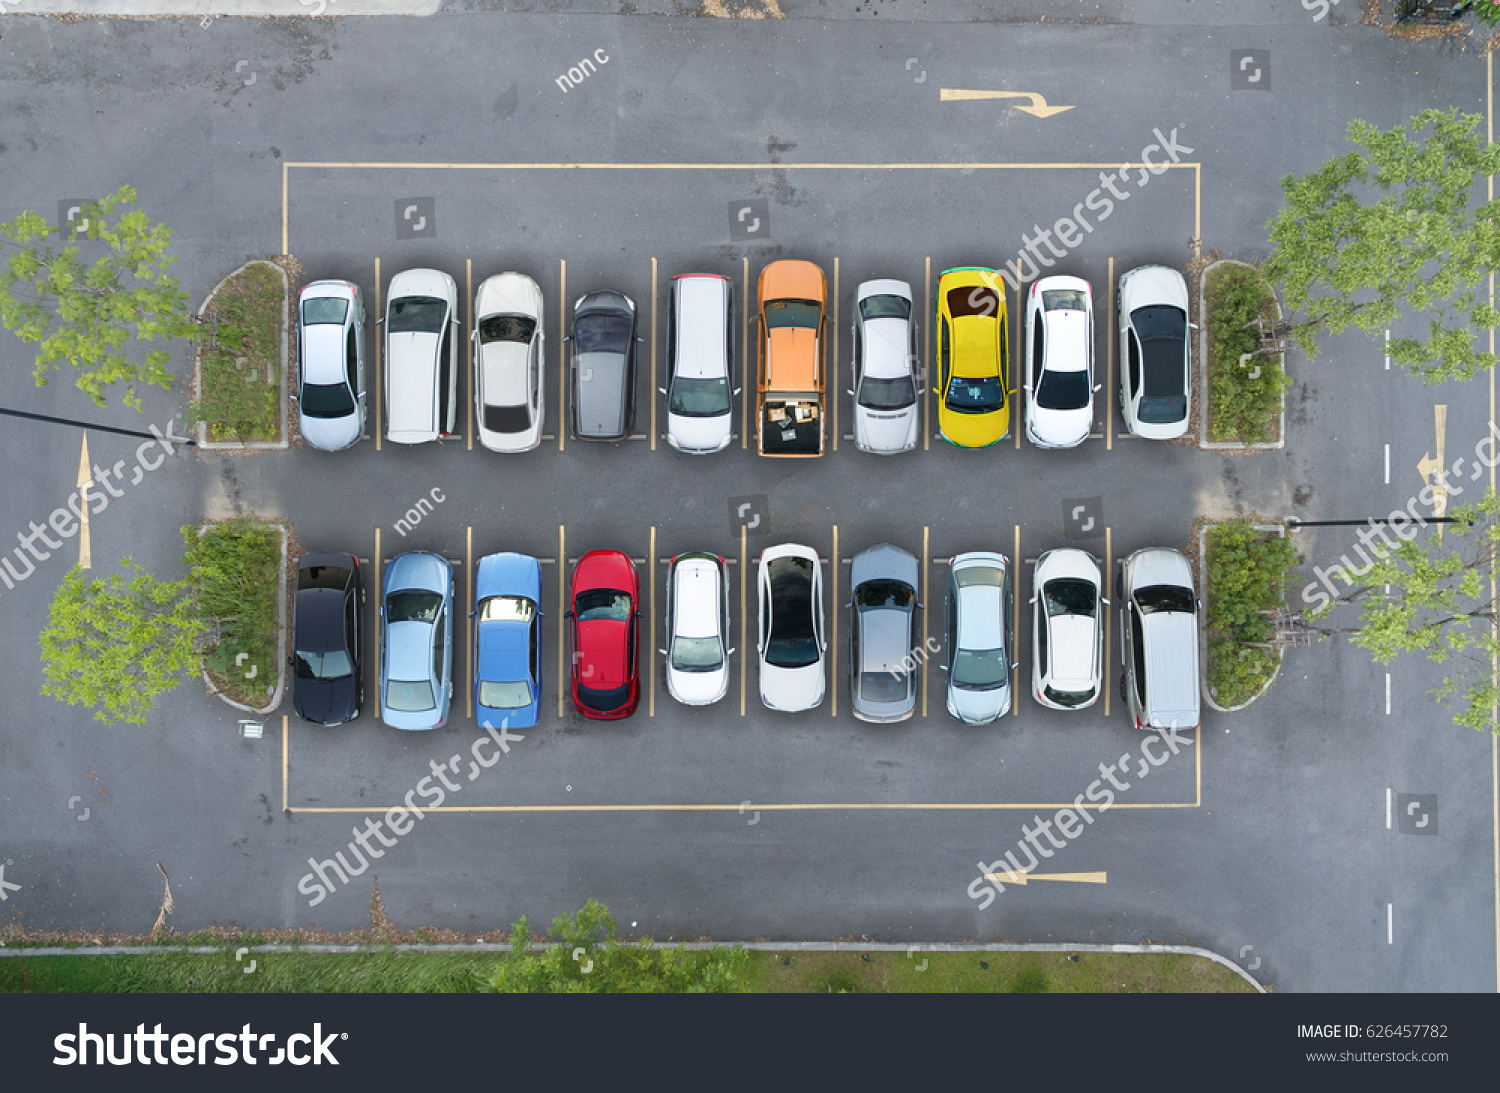Car: (749, 249, 830, 462), (658, 268, 743, 461), (1120, 542, 1202, 737), (467, 267, 550, 457), (375, 545, 458, 734), (378, 262, 461, 450), (931, 262, 1010, 452), (844, 539, 924, 726), (561, 546, 644, 724), (1023, 548, 1108, 714), (1117, 261, 1193, 443), (751, 542, 830, 715), (470, 548, 544, 733), (848, 272, 921, 457), (290, 549, 365, 730), (941, 546, 1014, 729), (1023, 269, 1095, 454), (298, 275, 369, 455), (565, 285, 641, 449), (660, 548, 736, 711)
LaneMark: (1379, 785, 1398, 832), (1384, 896, 1400, 950), (1380, 440, 1395, 491), (1382, 666, 1395, 717)
